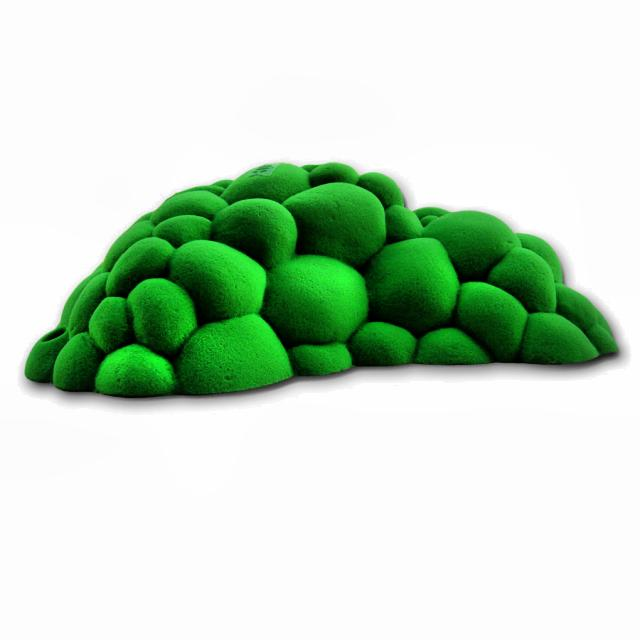Hold: (36, 144, 621, 392)
